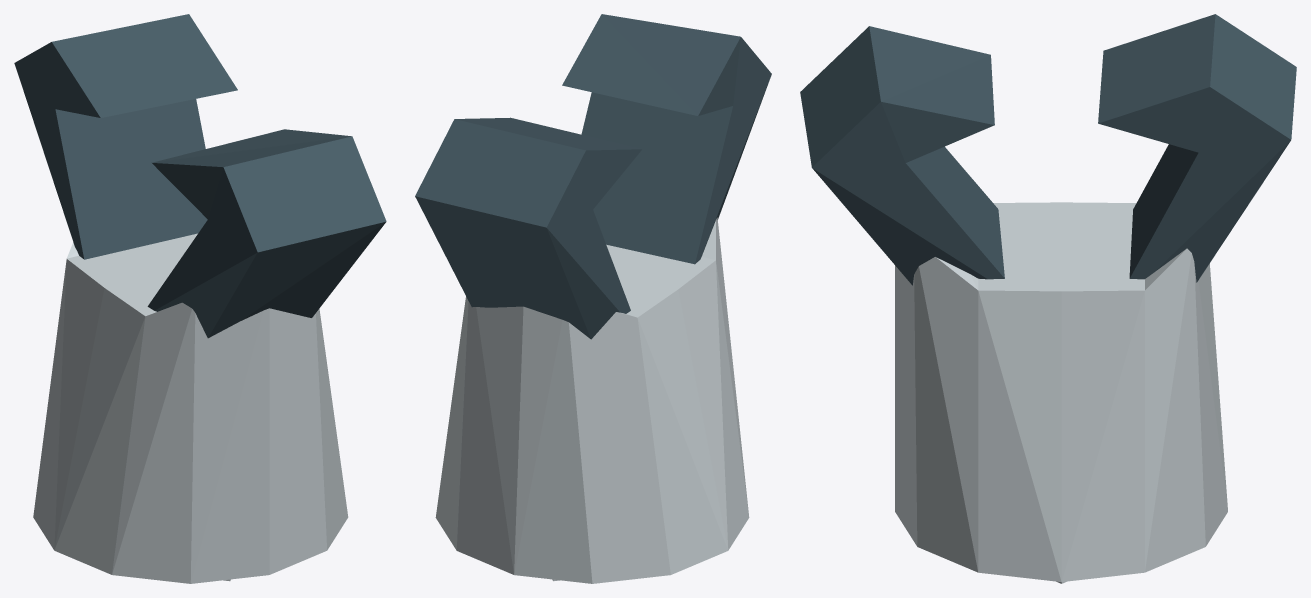
The picture shows the model from 3 angles, left to right: view 1: azimuth 30°, elevation 25°; view 2: azimuth 150°, elevation 25°; view 3: azimuth 270°, elevation 25°; orthographic projection. The views are drawn at different scales.
Parts seen in each view (by area): view 1: mesh_45312587, mesh_1844305677, mesh_1580986322; view 2: mesh_45312587, mesh_1580986322, mesh_1844305677; view 3: mesh_45312587, mesh_1580986322, mesh_1844305677.
Part boxes in pixels (x1=…): mesh_45312587: x1=33, y1=233, x2=348, y2=583; mesh_1844305677: x1=14, y1=14, x2=237, y2=259; mesh_1580986322: x1=147, y1=129, x2=386, y2=338; mesh_45312587: x1=435, y1=217, x2=749, y2=583; mesh_1580986322: x1=562, y1=14, x2=771, y2=264; mesh_1844305677: x1=415, y1=117, x2=642, y2=339; mesh_45312587: x1=895, y1=202, x2=1227, y2=583; mesh_1580986322: x1=800, y1=26, x2=1004, y2=285; mesh_1844305677: x1=1098, y1=14, x2=1296, y2=282.
Size of the model in its own units: 16.31 by 27.04 by 24.31.
